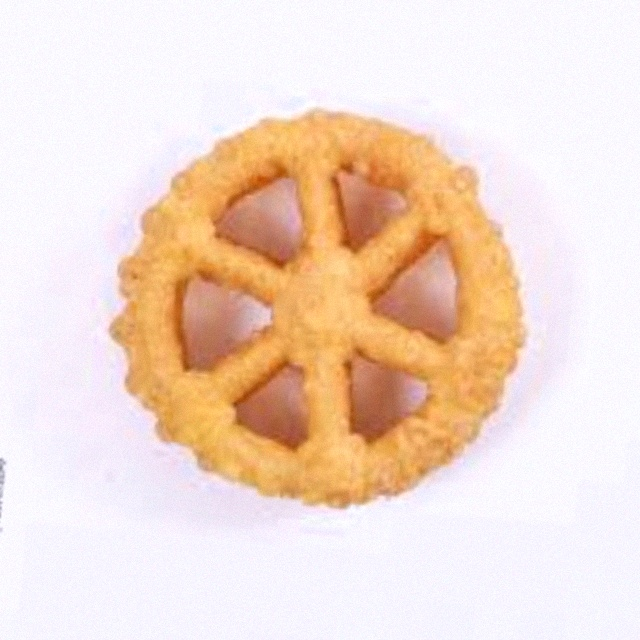Kokis: (104, 122, 536, 518)
